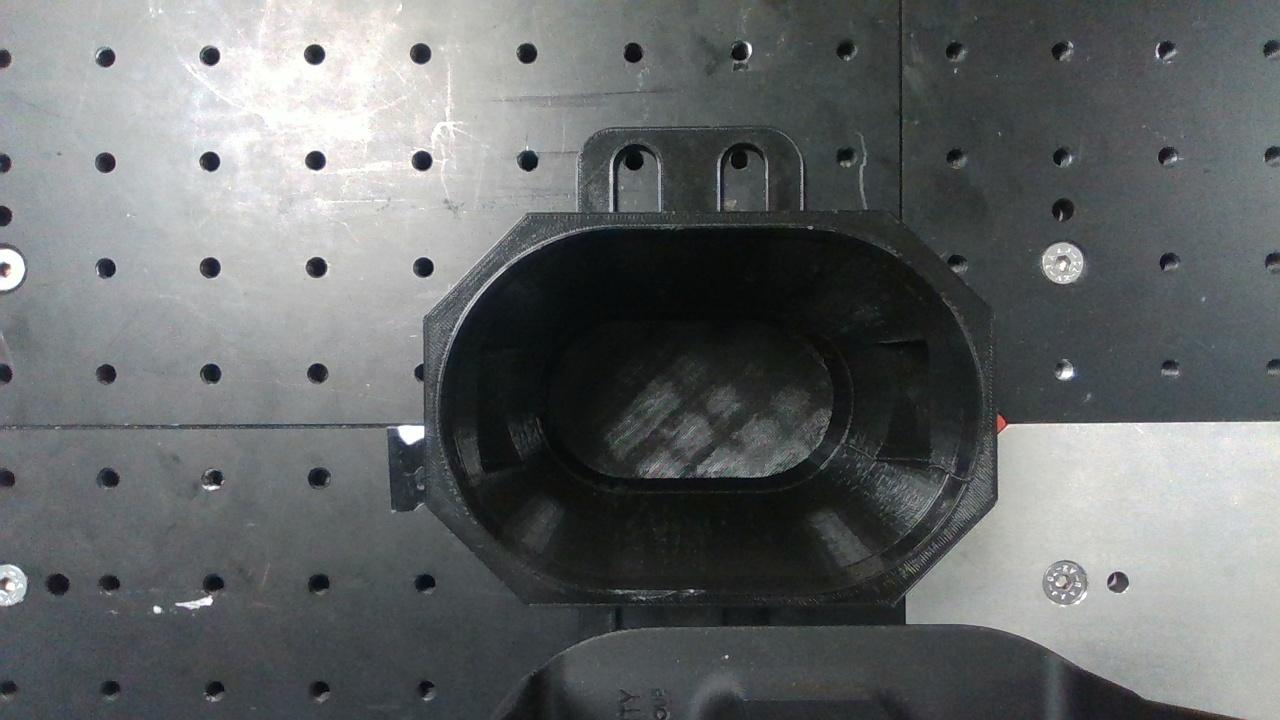small_interface: (423, 211, 999, 609)
